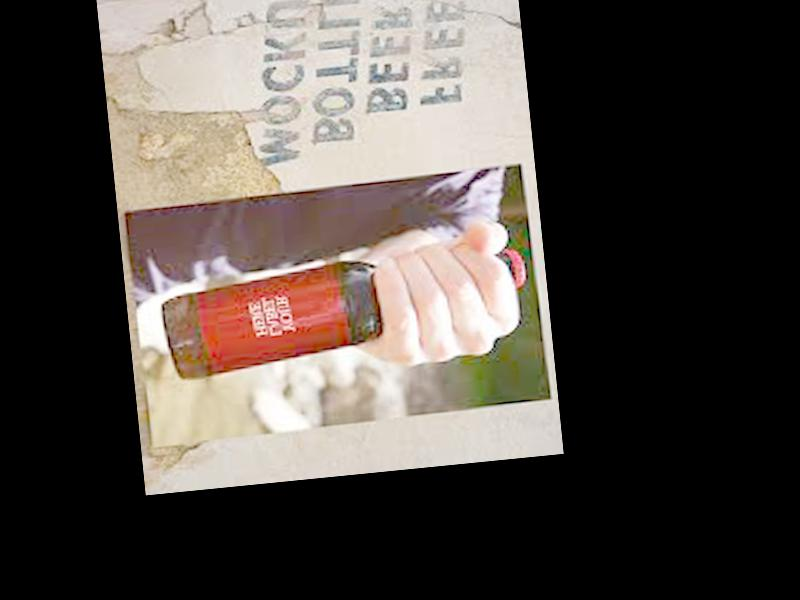Beer: (158, 246, 531, 382)
